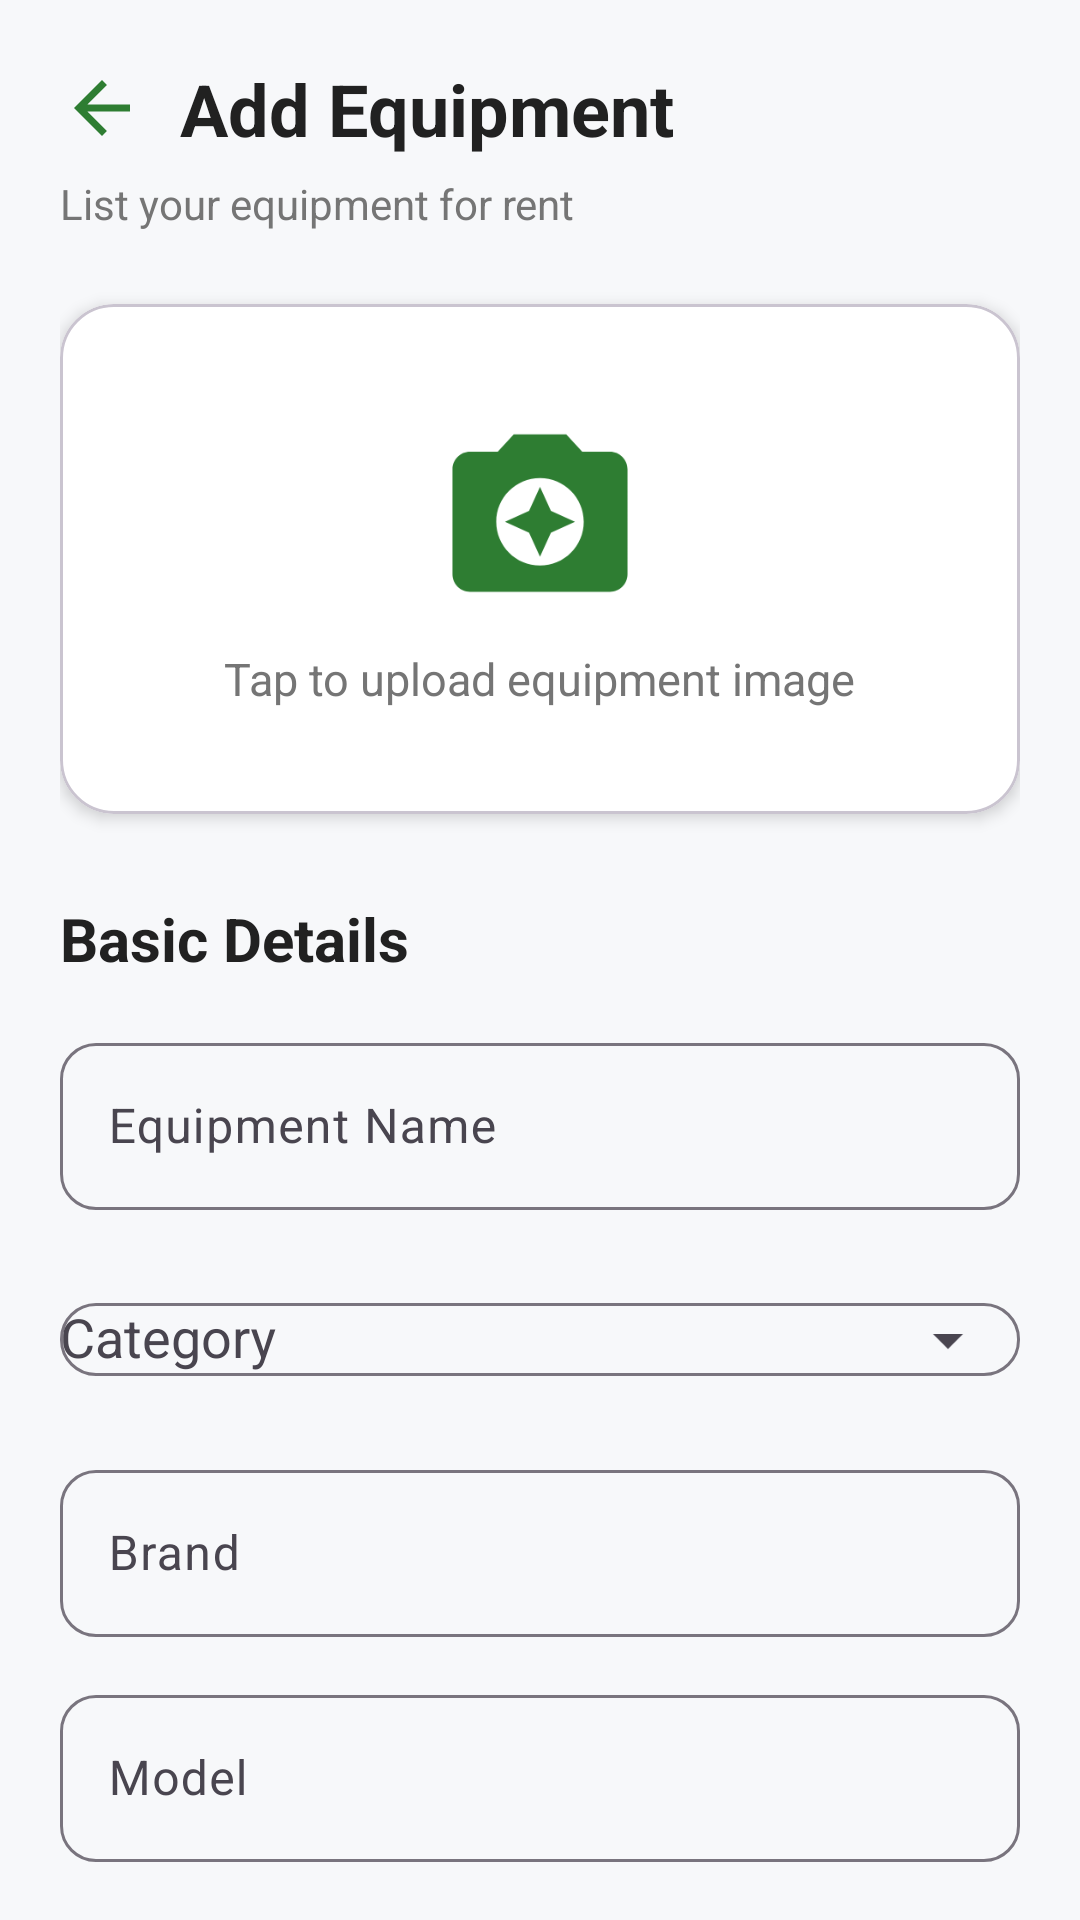

Point at icon controls on the screen. Image size 1080×1920, points as point (x, y).
arrow back: point (102, 108)
camera enhance: point (540, 513)
